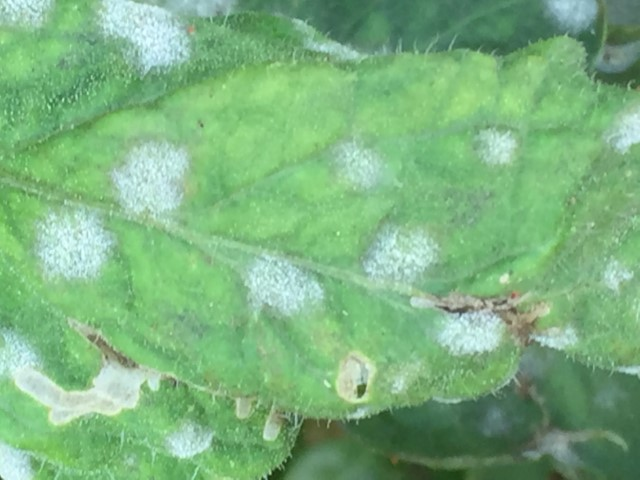oidio: (100, 1, 192, 76), (111, 138, 190, 223), (34, 202, 113, 280), (245, 251, 326, 326), (362, 222, 439, 292), (288, 16, 367, 62), (438, 306, 507, 356), (331, 138, 385, 194), (164, 418, 217, 459), (1, 325, 40, 378), (1, 1, 53, 33), (548, 2, 598, 35), (476, 129, 518, 167), (605, 113, 640, 154), (528, 324, 579, 351), (388, 359, 421, 395), (602, 256, 634, 289)
